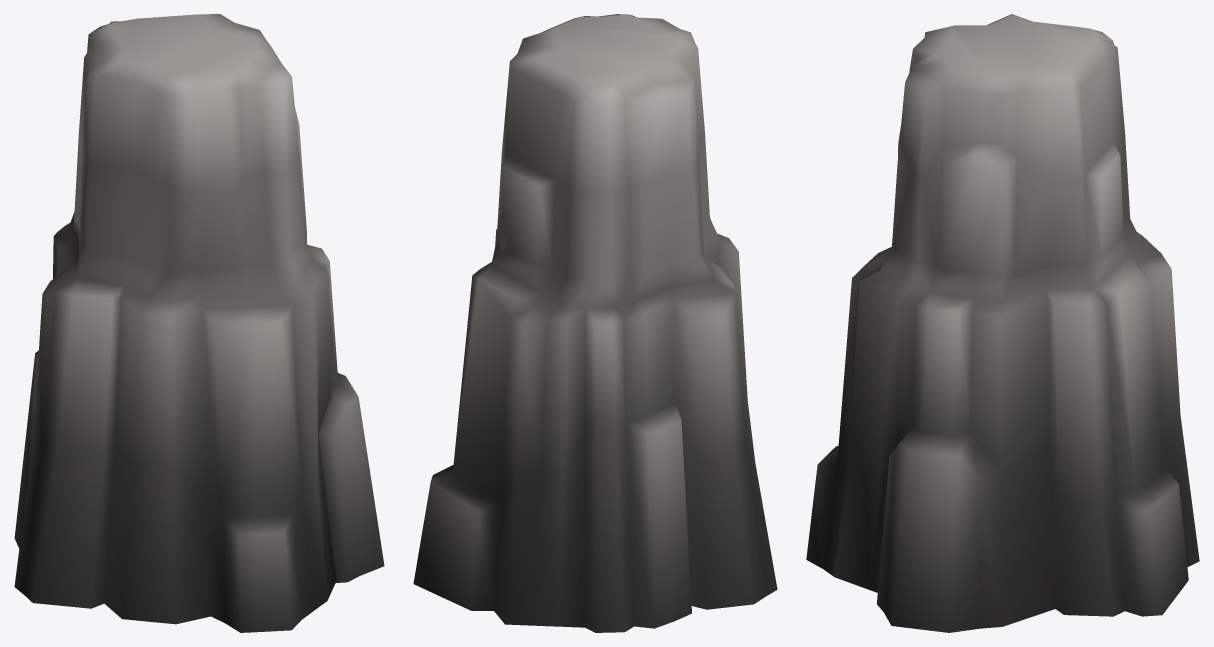
Rendered from m_Cliff05_A.fbx.
3 views of the same model, side by side, from view 1: azimuth 30°, elevation 25°; view 2: azimuth 150°, elevation 25°; view 3: azimuth 270°, elevation 25° (orthographic).
Visible parts, largest first — view 1: m_Cliff05_A; view 2: m_Cliff05_A; view 3: m_Cliff05_A.
Boxes of the visible parts, x1,y1,x2,y2 form: m_Cliff05_A: (14, 14, 384, 632); m_Cliff05_A: (413, 14, 777, 632); m_Cliff05_A: (806, 14, 1199, 632).
Bounding box in the file's own units: 647 × 1001 × 698.
